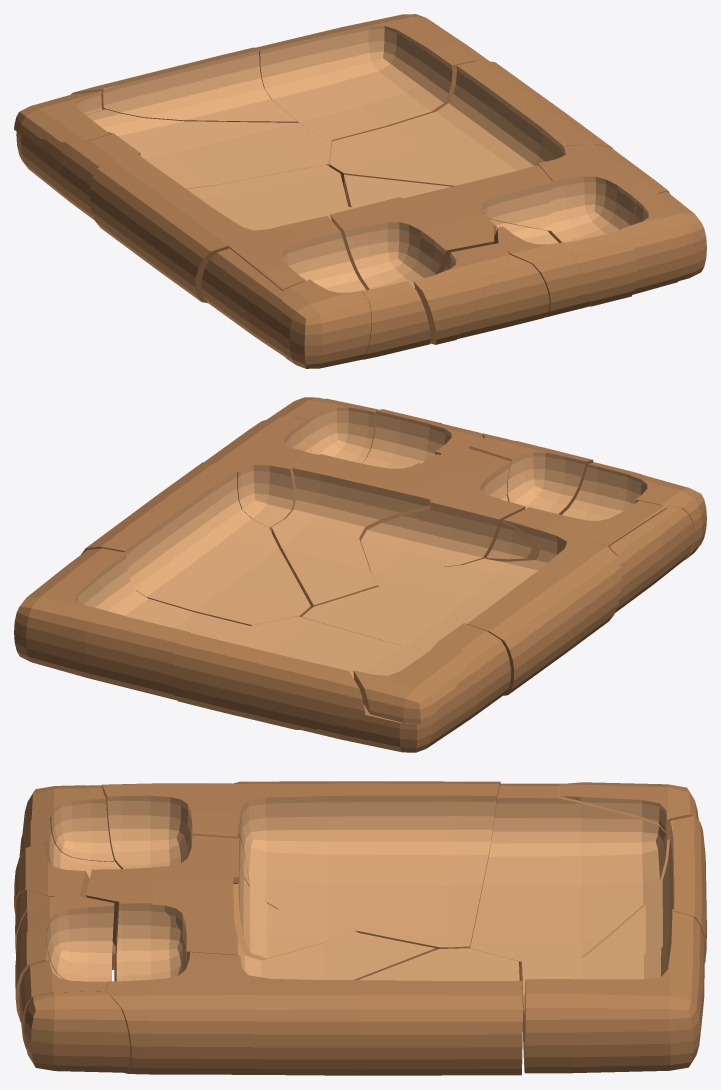
Rendered from UIPanel.fbx.
3 views of the same model, one above another, from view 1: azimuth 30°, elevation 25°; view 2: azimuth 150°, elevation 25°; view 3: azimuth 270°, elevation 25° (orthographic). The views are drawn at different scales.
Visible parts, largest first — view 1: UIPanel_cell.008, UIPanel_cell.018, UIPanel_cell.007, UIPanel_cell.004, UIPanel_cell.005, UIPanel_cell.009, UIPanel_cell.006, UIPanel_cell.011, UIPanel_cell.013, UIPanel_cell.001, UIPanel_cell.010, UIPanel_cell.002 (+8 smaller); view 2: UIPanel_cell.018, UIPanel_cell.007, UIPanel_cell.008, UIPanel_cell.004, UIPanel_cell.011, UIPanel_cell.005, UIPanel_cell.009, UIPanel_cell.006, UIPanel_cell.003, UIPanel_cell.016, UIPanel_cell.002, UIPanel_cell.010 (+6 smaller); view 3: UIPanel_cell.018, UIPanel_cell.007, UIPanel_cell.004, UIPanel_cell.008, UIPanel_cell.006, UIPanel_cell.011, UIPanel_cell.001, UIPanel_cell.016, UIPanel_cell, UIPanel_cell.005, UIPanel_cell.019, UIPanel_cell.009 (+7 smaller).
Boxes of the visible parts, x1,y1,x2,y2 form: UIPanel_cell.008: (256,14,489,141); UIPanel_cell.018: (89,154,348,303); UIPanel_cell.007: (329,60,612,188); UIPanel_cell.004: (16,109,331,219); UIPanel_cell.005: (71,47,297,122); UIPanel_cell.009: (330,197,494,290); UIPanel_cell.006: (538,144,669,242); UIPanel_cell.011: (344,165,553,231); UIPanel_cell.013: (281,279,371,368); UIPanel_cell.001: (228,215,366,292); UIPanel_cell.010: (201,248,286,357); UIPanel_cell.002: (413,243,509,344); UIPanel_cell.018: (302,520,621,695); UIPanel_cell.007: (81,462,310,625); UIPanel_cell.008: (14,548,253,700); UIPanel_cell.004: (234,616,510,752); UIPanel_cell.011: (271,454,433,608); UIPanel_cell.005: (172,632,365,729); UIPanel_cell.009: (430,448,525,566); UIPanel_cell.006: (204,416,317,533); UIPanel_cell.003: (353,644,467,723); UIPanel_cell.016: (359,454,445,587); UIPanel_cell.002: (469,437,593,514); UIPanel_cell.010: (609,506,694,612); UIPanel_cell.018: (232,781,500,949); UIPanel_cell.007: (253,948,522,1075); UIPanel_cell.004: (470,783,698,980); UIPanel_cell.008: (521,909,704,1073); UIPanel_cell.006: (105,952,269,1074); UIPanel_cell.011: (151,876,435,979); UIPanel_cell.001: (102,783,249,886); UIPanel_cell.016: (114,883,358,981); UIPanel_cell: (23,991,130,1072); UIPanel_cell.005: (584,816,706,963); UIPanel_cell.019: (15,896,114,981); UIPanel_cell.009: (86,835,278,946).
Bounding box in the file's own units: 164 × 27.82 × 201.
